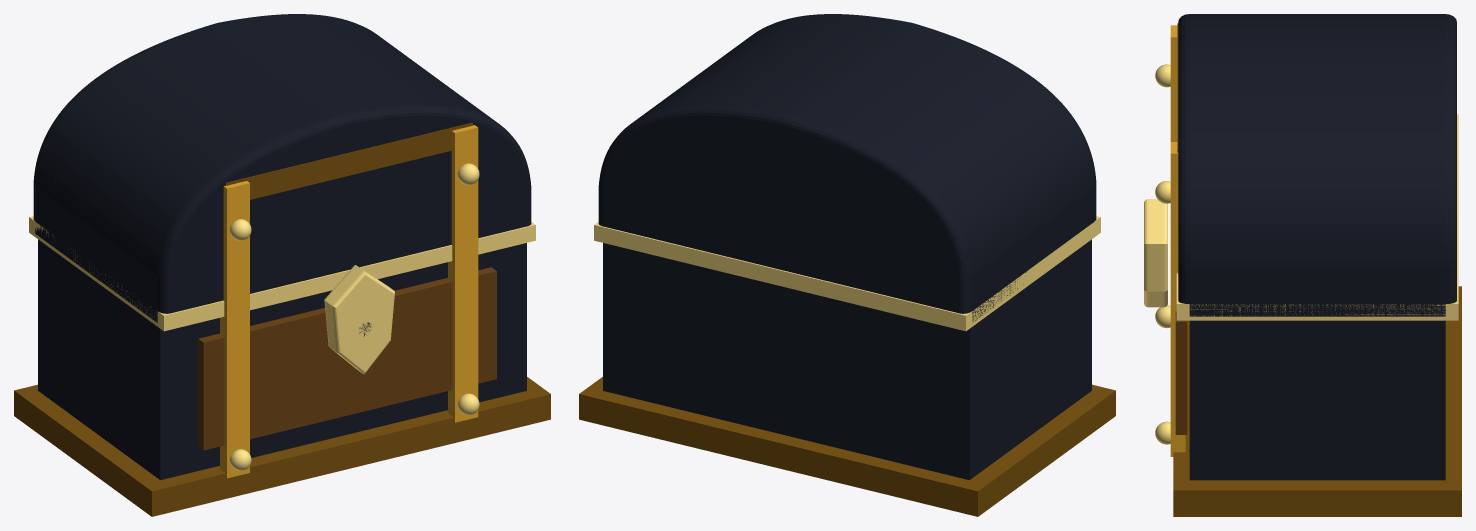
The model's file is reward-chest-high.glb.
3 renders of one model, left to right at view 1: azimuth 30°, elevation 25°; view 2: azimuth 150°, elevation 25°; view 3: azimuth 270°, elevation 25°, orthographic. The views are drawn at different scales.
Parts seen in each view (by area): view 1: Genuine extruded arched lid, Rectangular chest base, Inset front panel, Low gold chest plinth, Right vertical gold strap, Left vertical gold strap, Lid and box gold seam, Blank shield-shaped chest latch, Raised lid panel; view 2: Genuine extruded arched lid, Rectangular chest base, Low gold chest plinth, Lid and box gold seam; view 3: Genuine extruded arched lid, Rectangular chest base, Low gold chest plinth, Lid and box gold seam, Blank shield-shaped chest latch, Right vertical gold strap, Inset front panel, Left vertical gold strap.
Boxes of the visible parts, box(x1,y1,x2,y2) form: Genuine extruded arched lid: box(33, 14, 531, 322); Rectangular chest base: box(38, 239, 526, 480); Inset front panel: box(198, 267, 496, 450); Low gold chest plinth: box(14, 377, 550, 516); Right vertical gold strap: box(448, 125, 478, 422); Left vertical gold strap: box(220, 181, 249, 478); Lid and box gold seam: box(29, 216, 535, 331); Blank shield-shaped chest latch: box(324, 265, 394, 374); Raised lid panel: box(225, 122, 472, 199); Genuine extruded arched lid: box(598, 14, 1096, 322); Rectangular chest base: box(603, 239, 1091, 480); Low gold chest plinth: box(579, 377, 1115, 516); Lid and box gold seam: box(594, 216, 1100, 331); Genuine extruded arched lid: box(1178, 14, 1456, 316); Rectangular chest base: box(1189, 320, 1445, 480); Low gold chest plinth: box(1173, 286, 1461, 516); Lid and box gold seam: box(1176, 114, 1458, 320); Blank shield-shaped chest latch: box(1144, 199, 1167, 307); Right vertical gold strap: box(1170, 142, 1185, 456); Inset front panel: box(1175, 311, 1187, 434); Left vertical gold strap: box(1170, 25, 1177, 141).
Size of the model in its own units: 1.47 by 1.23 by 0.969.
